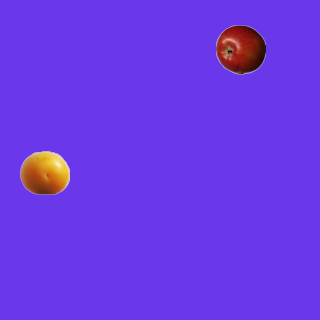Apple Braeburn: (215, 24, 265, 74)
Cherry Wax Yellow: (19, 147, 69, 197)
